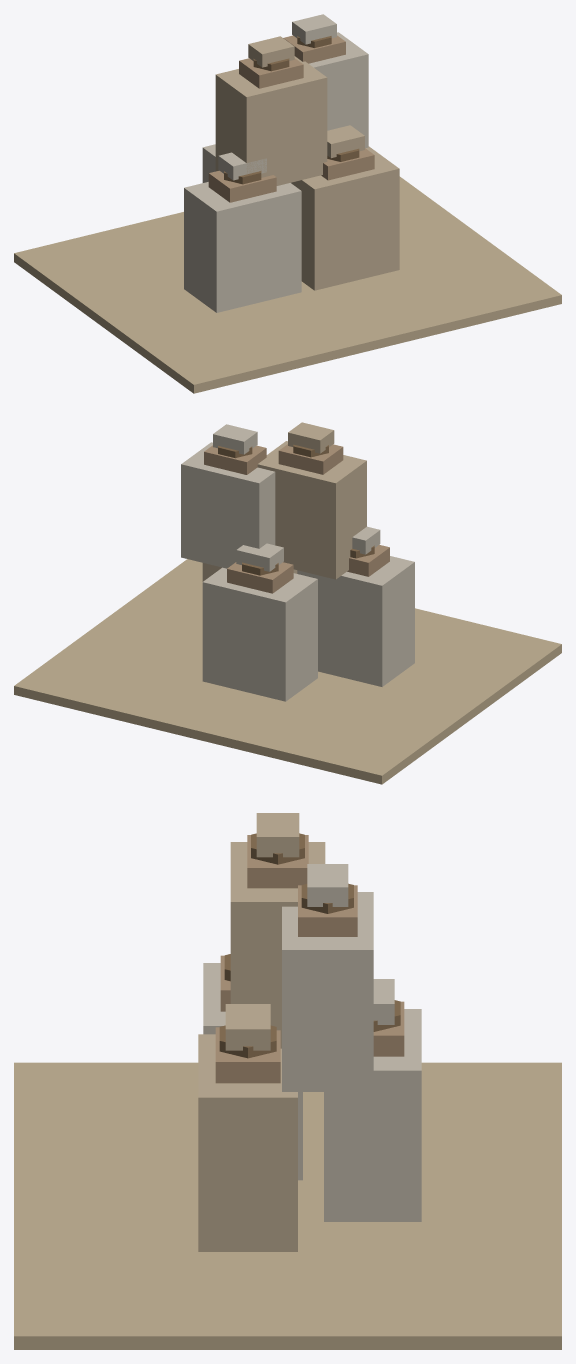
The model's file is cafe_estacion_06_bultos.glb.
3 renders of one model, top to bottom at view 1: azimuth 30°, elevation 25°; view 2: azimuth 150°, elevation 25°; view 3: azimuth 270°, elevation 25°, orthographic. The views are drawn at different scales.
Visible parts, largest first — view 1: model; view 2: model; view 3: model.
Part boxes in pixels (box(x1,y1,x2,y2)): model: box(14, 14, 561, 393); model: box(14, 422, 561, 784); model: box(14, 813, 561, 1349).
Size of the model in its own units: 2.6 by 1.65 by 2.2.
